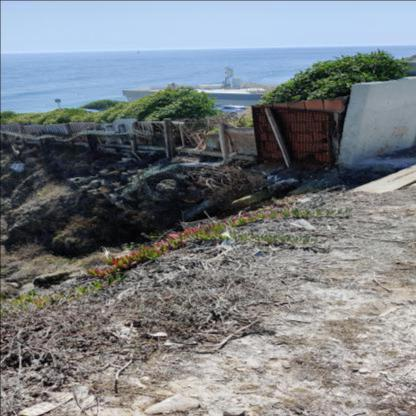Bottle: (255, 253, 263, 256)
Cup: (288, 218, 315, 230)
Other litter: (17, 393, 74, 416)
Unlabeled litter: (66, 381, 88, 398), (218, 231, 235, 246), (163, 339, 196, 345)
